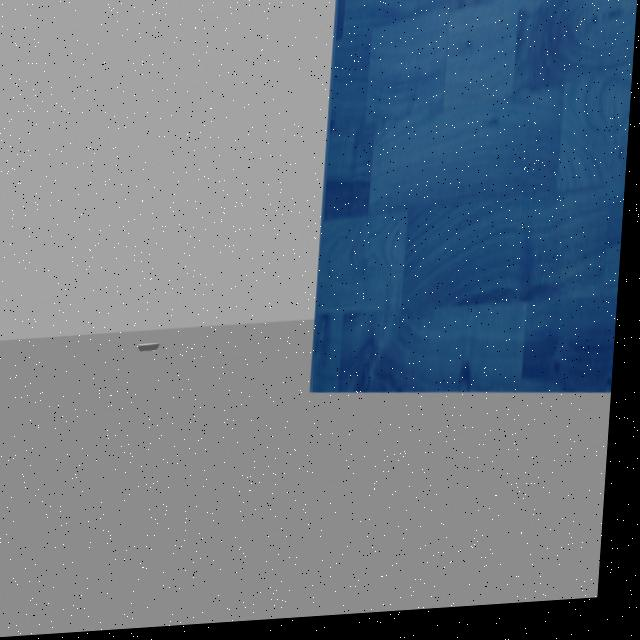bowl: (136, 337, 175, 360)
shelf: (290, 0, 640, 450)
